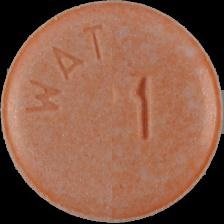52544-848: (0, 0, 224, 224)
